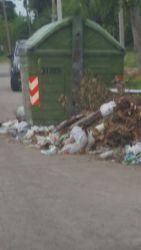Dechets: (0, 96, 140, 163)
Trash: (22, 16, 123, 124)
